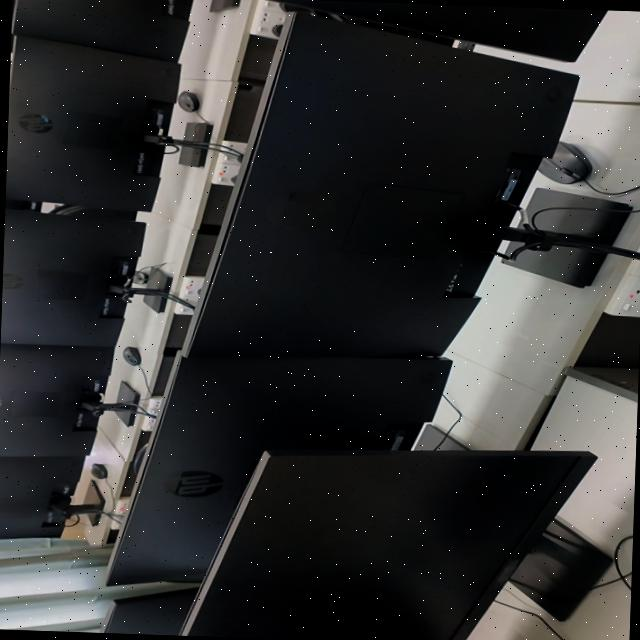Monitor: (181, 14, 577, 362), (186, 450, 610, 640), (107, 356, 450, 584), (4, 36, 183, 211), (0, 208, 186, 346), (269, 0, 605, 61), (0, 343, 135, 456), (10, 0, 188, 62), (0, 456, 103, 537), (101, 589, 196, 635)
Mouse: (536, 142, 589, 184), (176, 90, 198, 112), (120, 346, 139, 365), (89, 463, 106, 478)
